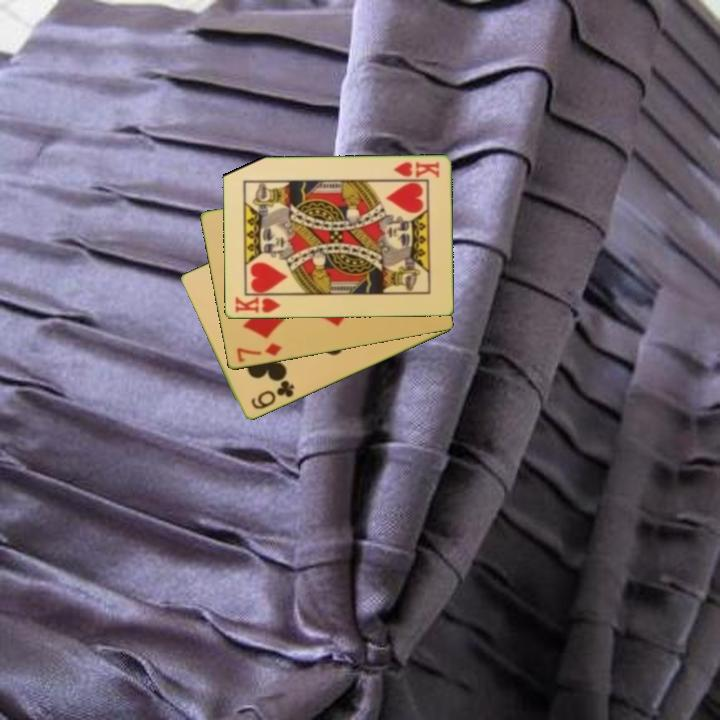6c: (247, 377, 297, 413)
7d: (233, 340, 285, 365)
Kh: (231, 292, 286, 316), (390, 158, 442, 181)
